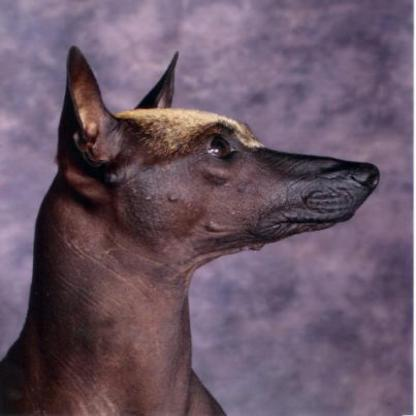Mexican_hairless: (0, 46, 378, 412)
